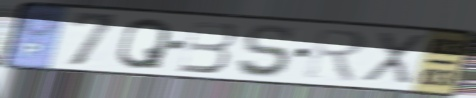7: (69, 10, 118, 69)
B: (176, 19, 238, 75)
Q: (114, 16, 174, 71)
R: (303, 26, 369, 85)
S: (235, 23, 296, 80)
X: (359, 30, 429, 88)
